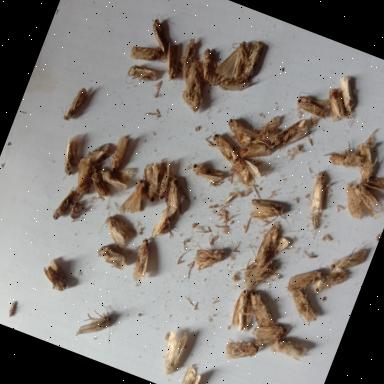pbw: (294, 154, 340, 216), (248, 299, 298, 353), (251, 219, 296, 274), (74, 298, 122, 349), (216, 283, 262, 336), (174, 59, 216, 114), (123, 228, 162, 286), (244, 194, 296, 237), (94, 207, 141, 254), (270, 110, 312, 160), (154, 326, 192, 378), (237, 252, 279, 299), (51, 130, 87, 184), (328, 236, 371, 281), (343, 177, 384, 221), (154, 40, 191, 88), (186, 238, 228, 280), (347, 137, 384, 184), (133, 158, 169, 206), (239, 292, 282, 332), (191, 46, 229, 91), (158, 175, 195, 221), (284, 261, 325, 302), (250, 108, 288, 152), (116, 176, 152, 222), (284, 288, 325, 328), (54, 81, 90, 126), (328, 75, 364, 120), (172, 36, 204, 86), (222, 40, 255, 88), (220, 111, 260, 149), (38, 258, 78, 296), (290, 90, 332, 126), (312, 262, 349, 302), (224, 156, 264, 192), (128, 38, 170, 72), (106, 130, 136, 176), (336, 182, 372, 220), (220, 334, 260, 368), (143, 12, 176, 53), (149, 209, 183, 247), (319, 86, 353, 124), (98, 158, 136, 192), (147, 160, 177, 202), (68, 158, 98, 200), (184, 157, 226, 186), (49, 184, 78, 226), (272, 334, 310, 366), (83, 167, 116, 203), (240, 138, 276, 170), (210, 44, 240, 82), (207, 132, 241, 164), (124, 62, 158, 93), (94, 243, 130, 272), (241, 39, 265, 79), (216, 72, 250, 99), (358, 164, 384, 197), (86, 136, 112, 164), (174, 362, 204, 384), (306, 215, 322, 232), (6, 300, 18, 320)
